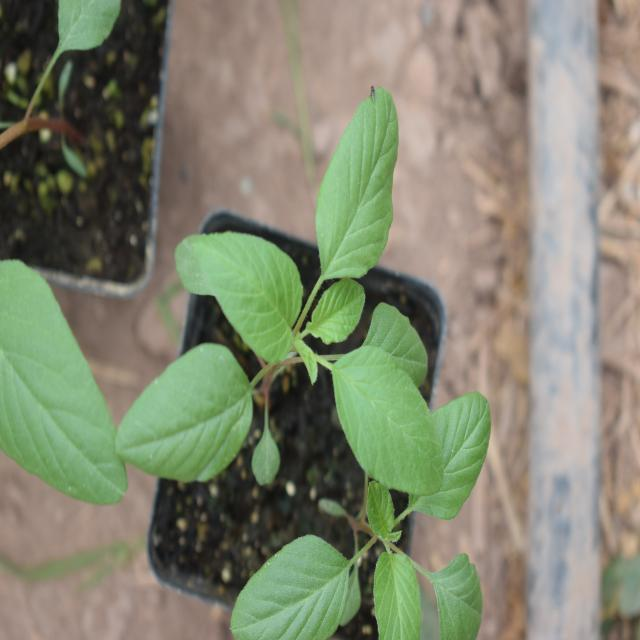pigweed: (122, 104, 452, 492), (214, 398, 489, 628)
